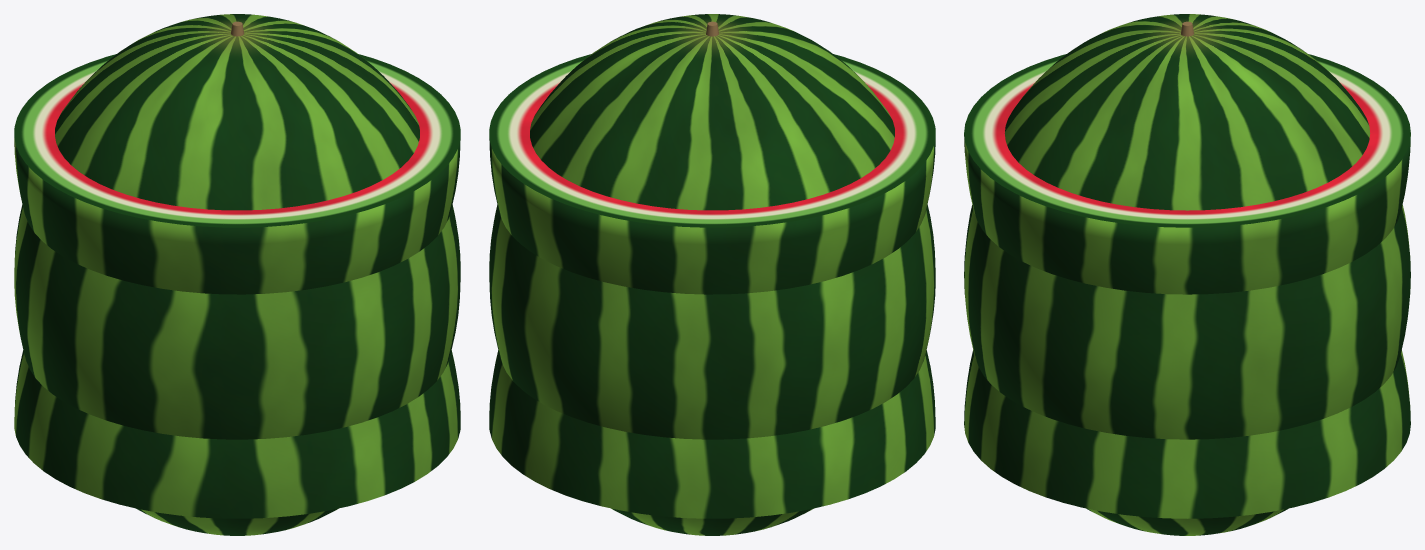
Rendered from watermelon.glb.
3 renders of one model, left to right at view 1: azimuth 30°, elevation 25°; view 2: azimuth 150°, elevation 25°; view 3: azimuth 270°, elevation 25°, orthographic.
Visible parts, largest first — view 1: whole, bot, top; view 2: whole, bot, top; view 3: whole, bot, top.
Part boxes in pixels (bbox=[...]): whole: bbox=[14, 14, 460, 535]; bot: bbox=[14, 54, 460, 294]; top: bbox=[14, 350, 460, 518]; whole: bbox=[489, 14, 935, 535]; bot: bbox=[489, 54, 935, 294]; top: bbox=[489, 350, 935, 518]; whole: bbox=[964, 14, 1410, 535]; bot: bbox=[964, 54, 1410, 294]; top: bbox=[964, 350, 1410, 518].
Size of the model in its own units: 1.04 by 1.26 by 1.04.
Materials: 3 (2 with a texture image).
